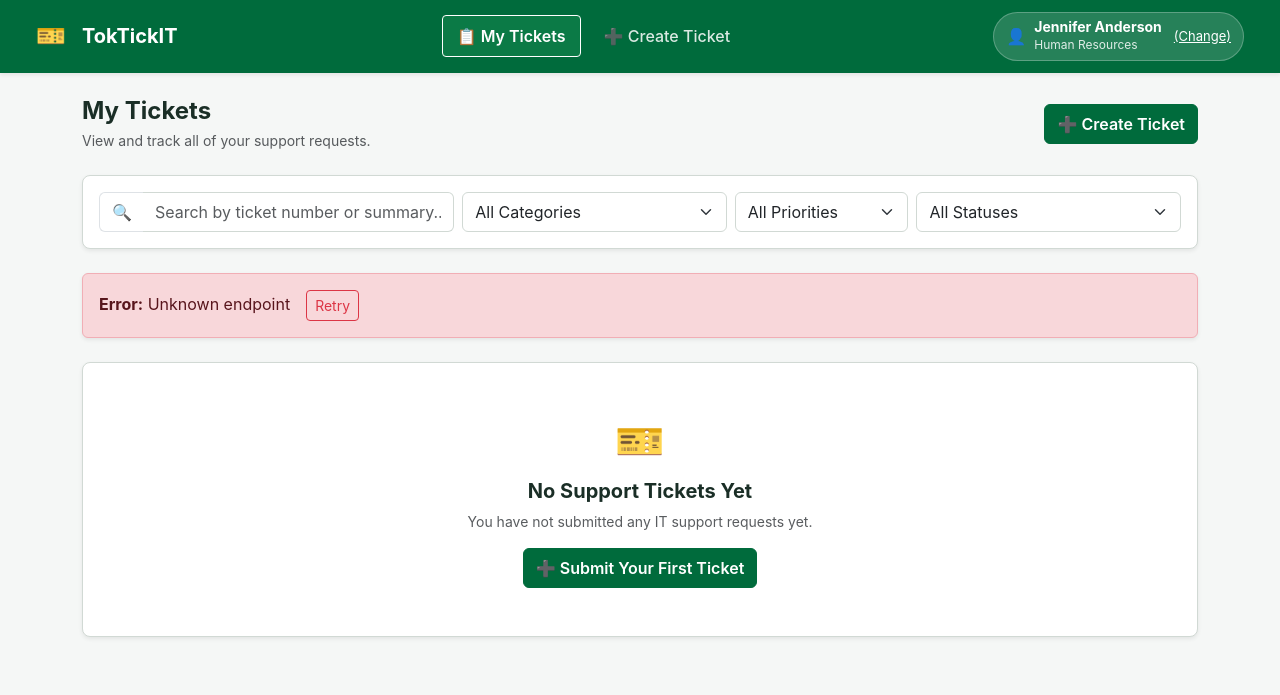
it: Create Ticket Screen (Create Mode) › UI-02: shows field-level validation errors when submitting empty form
Click the button with test id "nav-create-ticket" at {"x": 667, "y": 36}, box top-left (589, 15), bottom-right (745, 57)
(page scrolled)
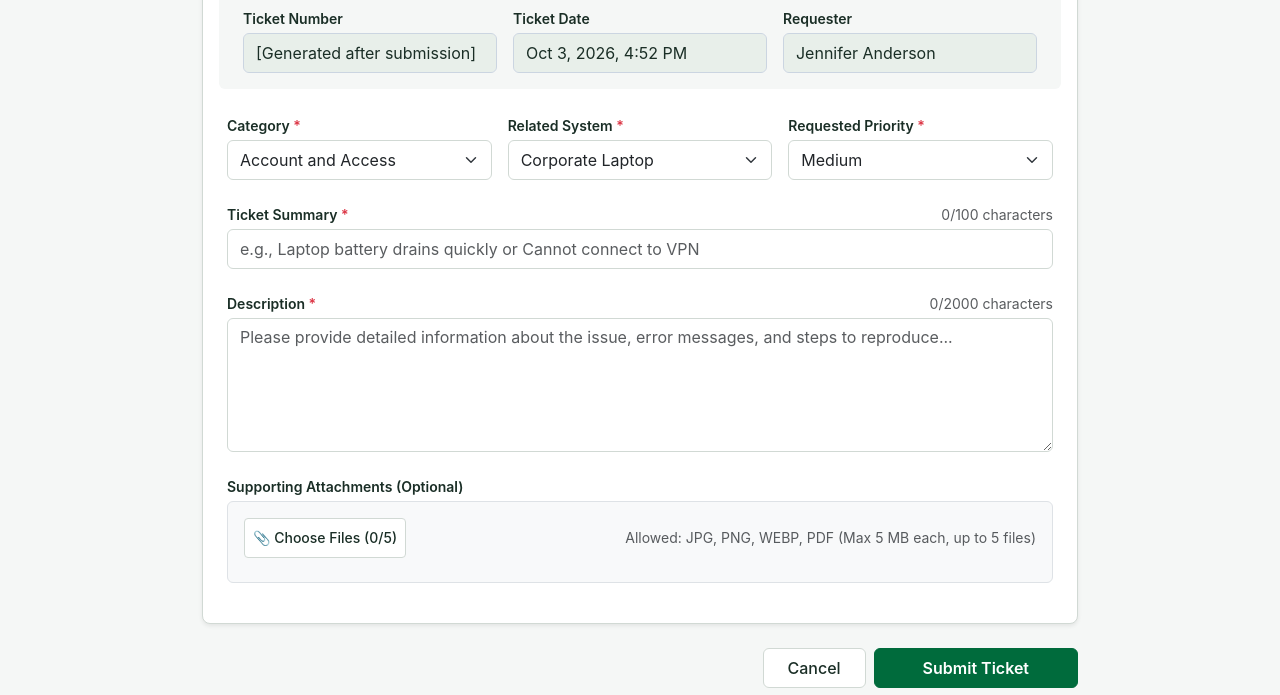
Attempt to submit empty form
Click the button with test id "submit-ticket-btn" at {"x": 976, "y": 668}, box top-left (874, 648), bottom-right (1078, 688)
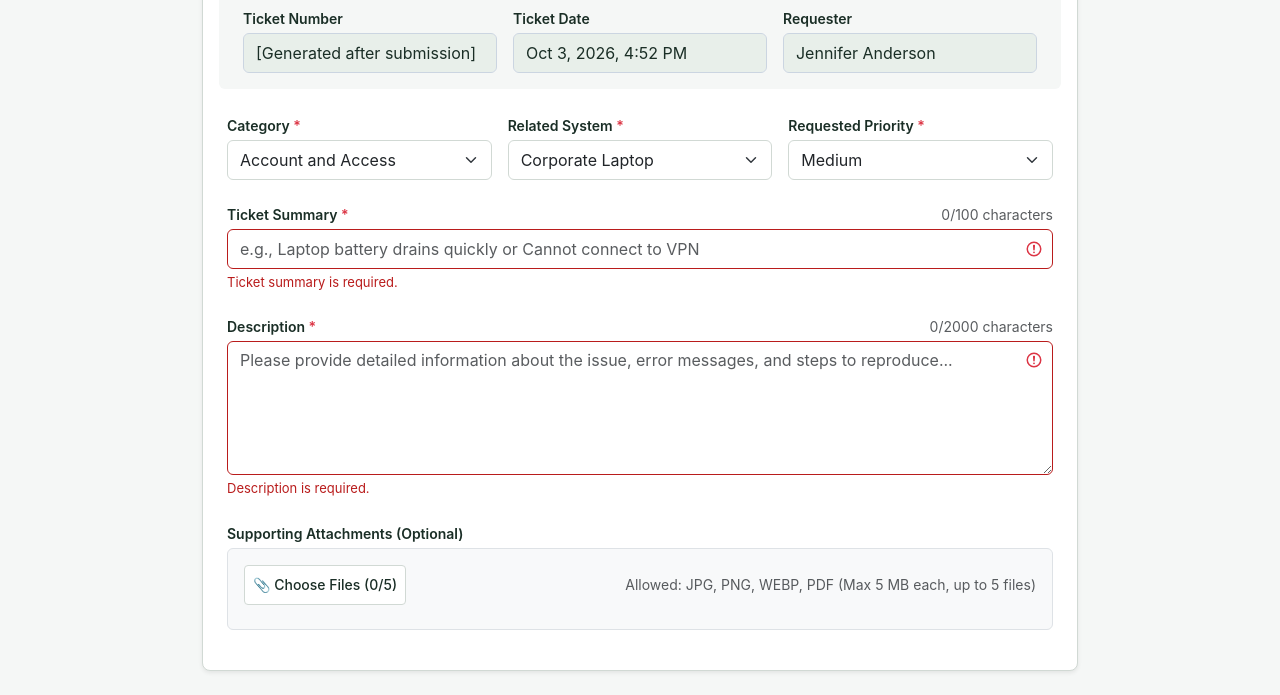
Check: the text with test id "error-summary" shows "summary is required", box top-left (227, 274), bottom-right (398, 290)
Check: the text with test id "error-description" shows "Description is required", box top-left (227, 480), bottom-right (370, 496)
